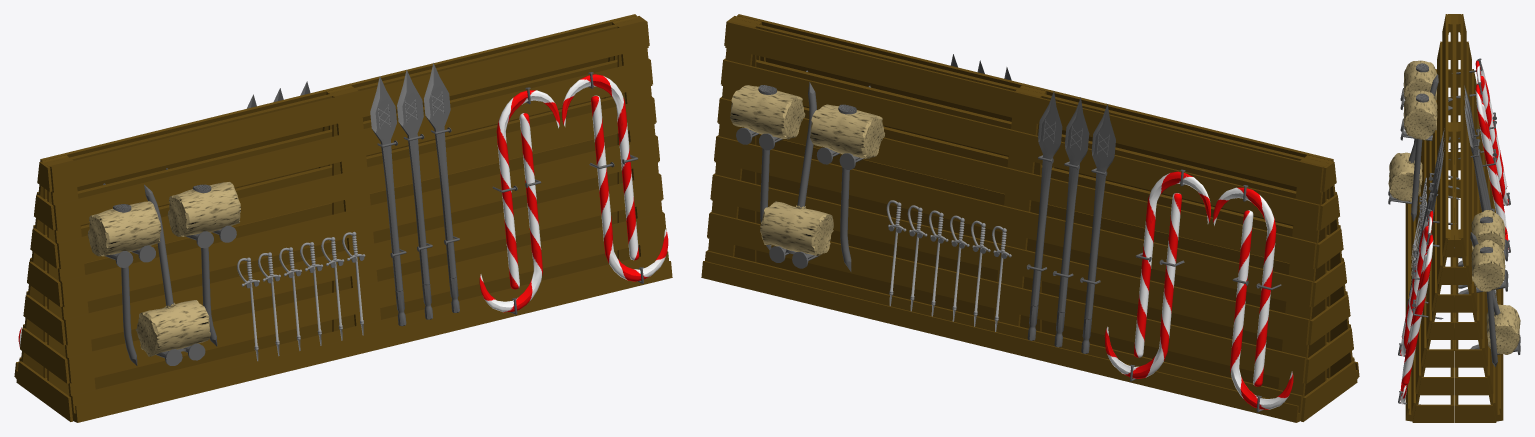
The model's file is doble estante armas personaje.fbx.
3 views of the same model, side by side, from view 1: azimuth 30°, elevation 25°; view 2: azimuth 150°, elevation 25°; view 3: azimuth 270°, elevation 25° (orthographic). The views are drawn at different scales.
Visible parts, largest first — view 1: estante.001, estante.007, guadañas.001, estante.008, lanzas.001, estante.011, martillo.004, martillo.003, martillo.005, lanza.001, guadaña.001, espadas.001 (+3 smaller); view 2: estante.008, estante.011, guadañas.002, estante.001, estante.007, lanzas.002, martillo.008, martillo.006, martillo.007, lanza.002, espadas.002, guadaña.002 (+3 smaller); view 3: estante.001, estante.008, estante.011, estante.007, guadañas.001, martillo.005, martillo.007, martillo.003, martillo.006, guadañas.002, guadaña.002, martillo.008 (+18 smaller).
Boxes of the visible parts, x1,y1,x2,y2 form: estante.001: (49,21,672,422); estante.007: (43,19,668,421); guadañas.001: (479,74,668,312); estante.008: (14,14,637,378); lanzas.001: (397,63,459,319); estante.011: (16,16,642,401); martillo.004: (87,201,161,365); martillo.003: (135,184,210,356); martillo.005: (167,182,240,346); lanza.001: (370,76,406,326); guadaña.001: (496,90,559,289); espadas.001: (258,231,365,356); estante.008: (701,21,1324,422); estante.011: (705,19,1330,421); guadañas.002: (1104,187,1293,409); estante.001: (736,14,1359,378); estante.007: (731,16,1357,401); lanzas.002: (1054,97,1115,353); martillo.008: (810,104,884,271); martillo.006: (760,82,833,255); martillo.007: (730,85,805,250); lanza.002: (1027,91,1062,340); espadas.002: (907,205,1011,331); guadaña.002: (1134,171,1210,357); estante.001: (1405,14,1450,421); estante.008: (1458,14,1503,421); estante.011: (1454,14,1496,422); estante.007: (1412,14,1454,422); guadañas.001: (1400,226,1433,404); martillo.005: (1403,90,1437,221); martillo.007: (1471,240,1505,367); martillo.003: (1388,74,1438,201); martillo.006: (1470,232,1520,354); guadañas.002: (1475,60,1508,251); guadaña.002: (1475,84,1507,234); martillo.008: (1471,210,1505,293).
Size of the model in its own units: 567 by 226 by 140.
